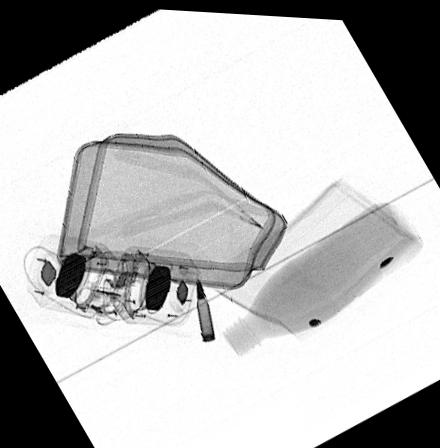Bullet: (196, 275, 216, 340)
